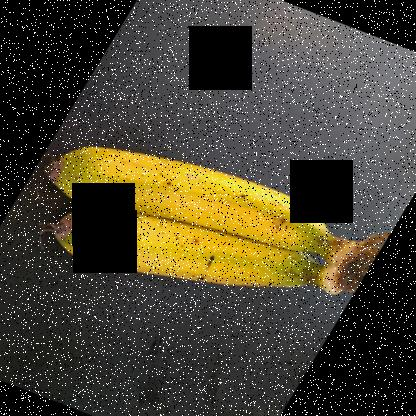freshripe: (48, 137, 355, 256)
ripe: (47, 211, 317, 299)
